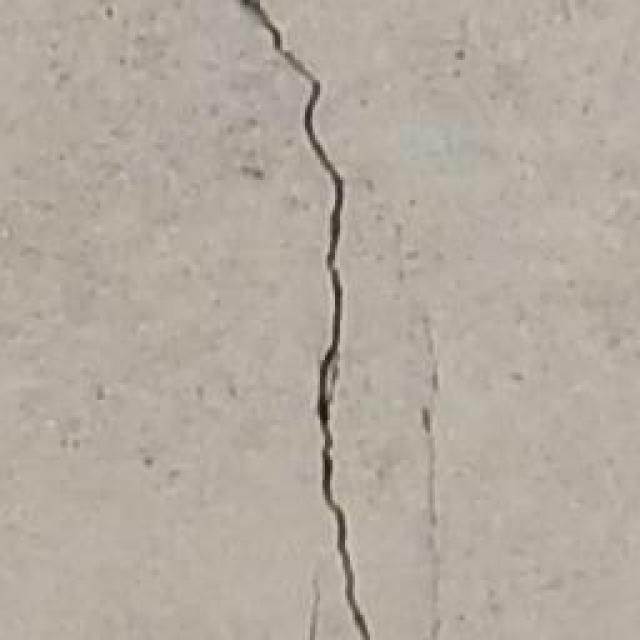concrete-crack: (238, 0, 372, 640), (418, 322, 440, 640), (305, 565, 318, 640)
